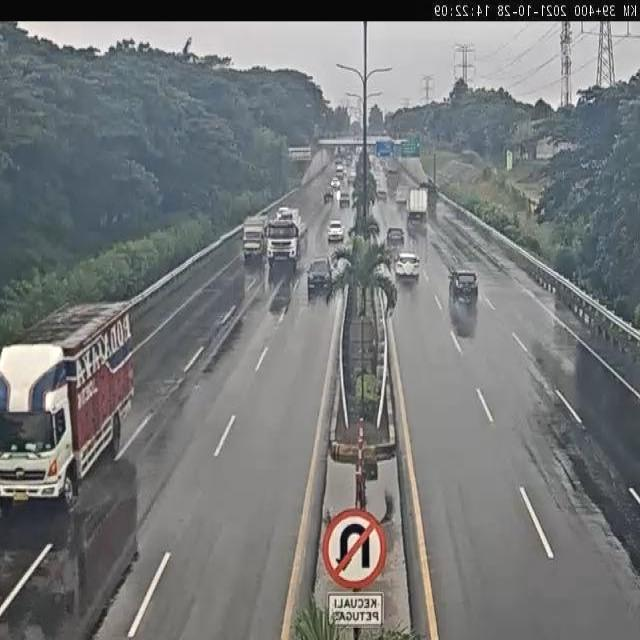Car: (449, 269, 479, 304), (394, 252, 422, 282), (308, 258, 333, 288), (386, 227, 405, 254), (327, 220, 345, 242), (274, 206, 290, 220), (339, 190, 350, 208), (377, 191, 388, 204), (330, 178, 340, 190), (347, 174, 355, 187), (324, 191, 332, 203), (349, 170, 357, 179)
Truck: (0, 300, 137, 508), (264, 203, 308, 270), (241, 213, 267, 261), (418, 180, 440, 217), (407, 186, 428, 222), (395, 183, 409, 204)
